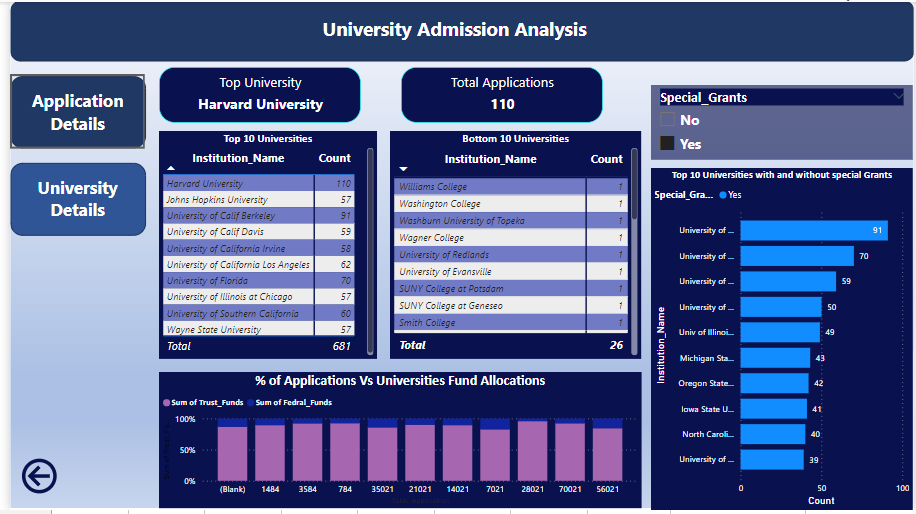

The dashboard page shown, as its layout file describes it:
{"tool":"powerbi","page":{"name":"University Detail","canvas":[1280,720],"ordinal":9},"visuals":[{"type":"textbox","box":[430.9,14.2,398.3,53.9],"z":0},{"type":"actionButton","box":[0,102.5,191.5,105.8],"z":1000},{"type":"actionButton","box":[0,223.4,191.5,107.5],"z":2000},{"type":"slicer","fields":{"Values":["Count of Universities and Grants.Special_Grants"]},"box":[908.5,117.6,371.3,106.3],"z":3000},{"type":"tableEx","title":"Top 10 Universities","fields":{"Values":["Count of Universities and Grants.Institution_Name.1","Sum(Count of Universities and Grants.Count)"]},"box":[211.7,183.1,309.1,322.5],"z":4000},{"type":"barChart","title":"Top 10 Universities with and without special Grants","fields":{"Category":["Count of Universities and Grants.Institution_Name.1"],"Y":["Sum(Count of Universities and Grants.Count)"],"Series":["Count of Universities and Grants.Special_Grants"]},"box":[908.5,235.3,371.3,484.7],"z":5000},{"type":"tableEx","title":"Bottom 10 Universities","fields":{"Values":["Count of Universities and Grants.Institution_Name.1","Sum(Count of Universities and Grants.Count)"]},"box":[539.2,183.1,356.1,322.5],"z":6000},{"type":"hundredPercentStackedColumnChart","title":"% of Applications Vs Universities Fund Allocations","fields":{"Category":["state_target.Total_Application"],"Y":["Sum(state_universities.Trust_Funds)","Sum(state_universities.Fedral_Funds)"]},"box":[211.7,524.1,683.7,193.2],"z":7000},{"type":"card","title":"Top University","fields":{"Values":["Min(Count of Universities and Grants.Institution_Name.1)"]},"box":[211.7,92.4,285.6,79],"z":8000},{"type":"card","title":"Total Applications","fields":{"Values":["Sum(Count of Universities and Grants.Count)"]},"box":[554.3,92.4,285.6,79],"z":9000},{"type":"actionButton","box":[11.8,640,60.5,62.2],"z":10000}]}

Visuals, with their boxes in screenshot pixels (x1, y1, x2, y2), scaled from the page's 1280x720 canvas onto the 916x514 screenshot:
textbox: box=[308, 10, 593, 49]
actionButton: box=[0, 73, 137, 149]
actionButton: box=[0, 159, 137, 236]
slicer - Count of Universities and Grants.Special_Grants: box=[650, 84, 915, 160]
"Top 10 Universities" tableEx: box=[151, 131, 373, 361]
"Top 10 Universities with and without special Grants" barChart: box=[650, 168, 915, 513]
"Bottom 10 Universities" tableEx: box=[386, 131, 641, 361]
"% of Applications Vs Universities Fund Allocations" hundredPercentStackedColumnChart: box=[151, 374, 641, 512]
"Top University" card: box=[151, 66, 356, 122]
"Total Applications" card: box=[397, 66, 601, 122]
actionButton: box=[8, 457, 52, 501]
